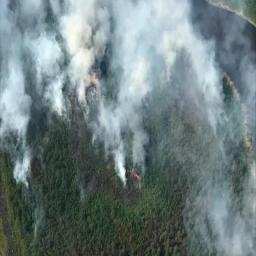Low smoke: (1, 2, 58, 182), (95, 2, 152, 175), (174, 141, 256, 254), (154, 1, 213, 127), (216, 2, 255, 146), (60, 0, 91, 104)
